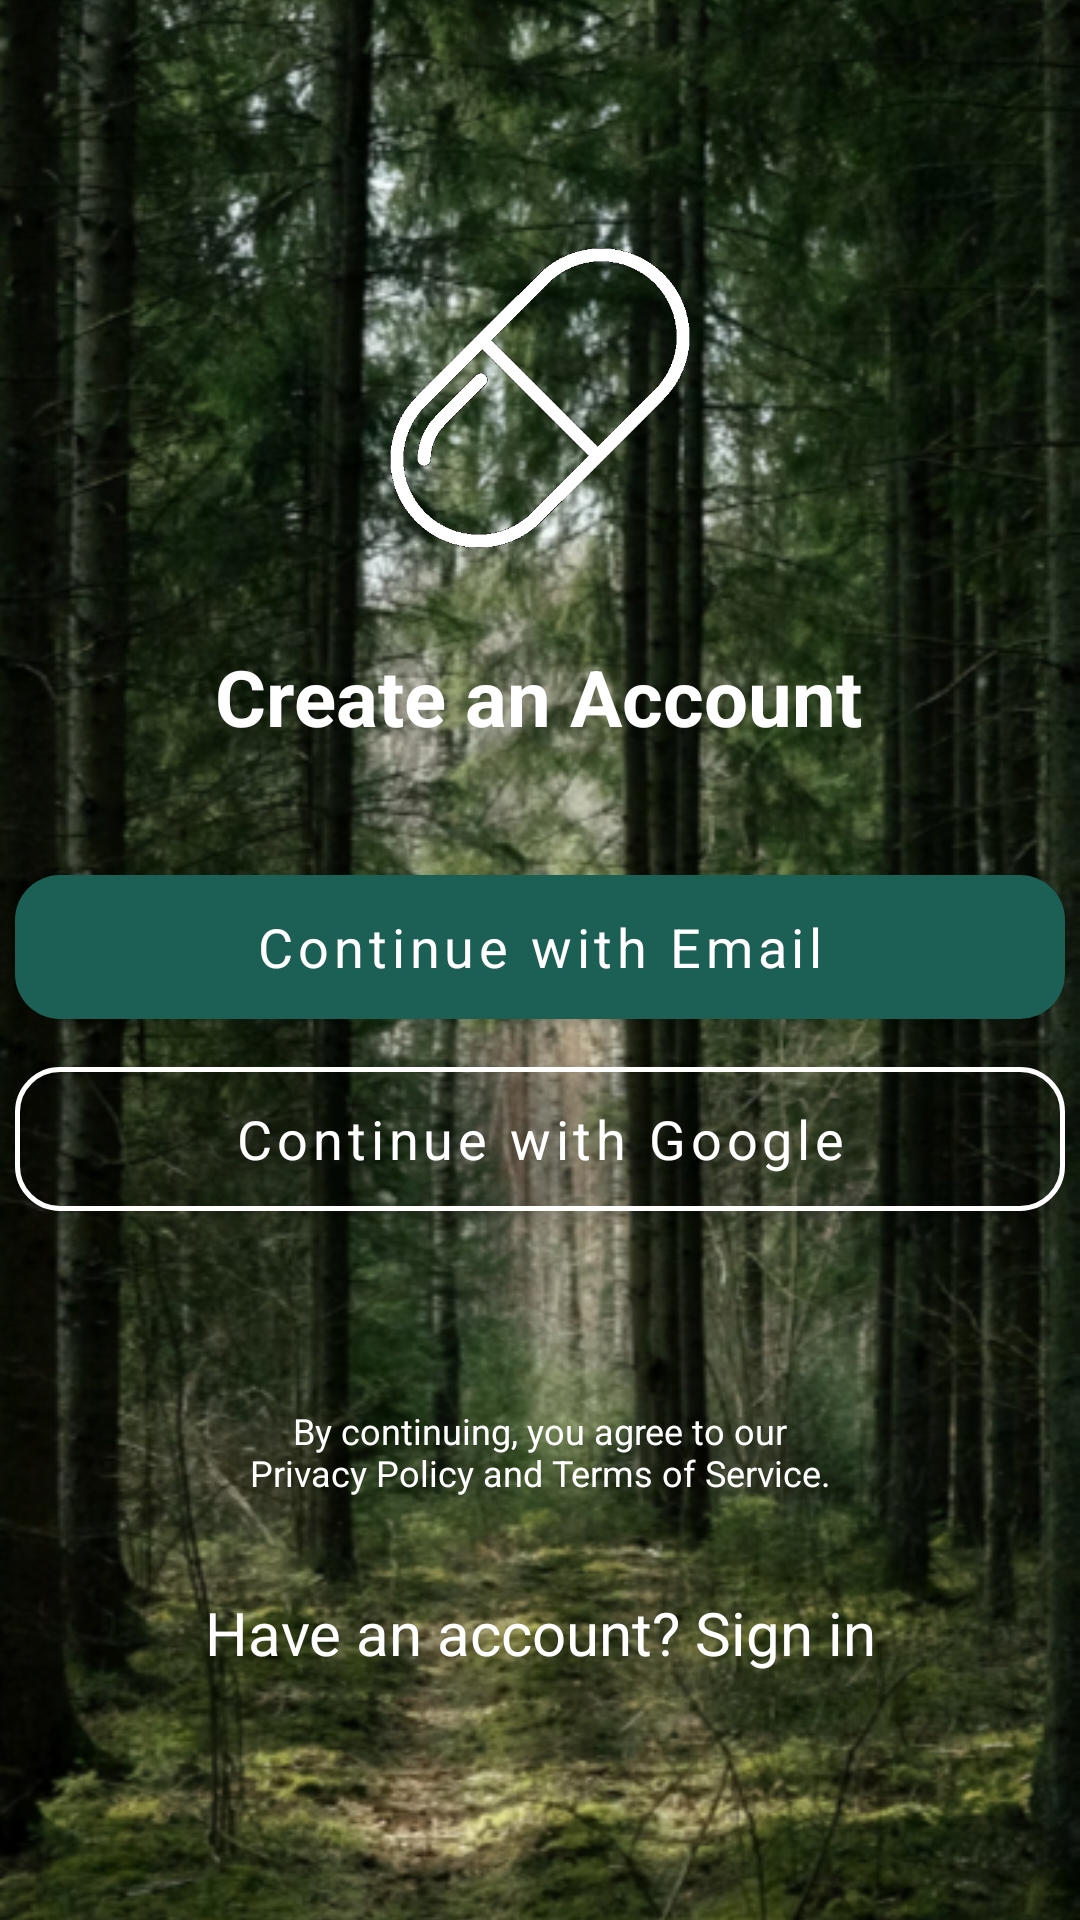

Icons on this 1080px x 1920px Android screen, each with the point to tap as [x,y]:
pill: [540,398]
